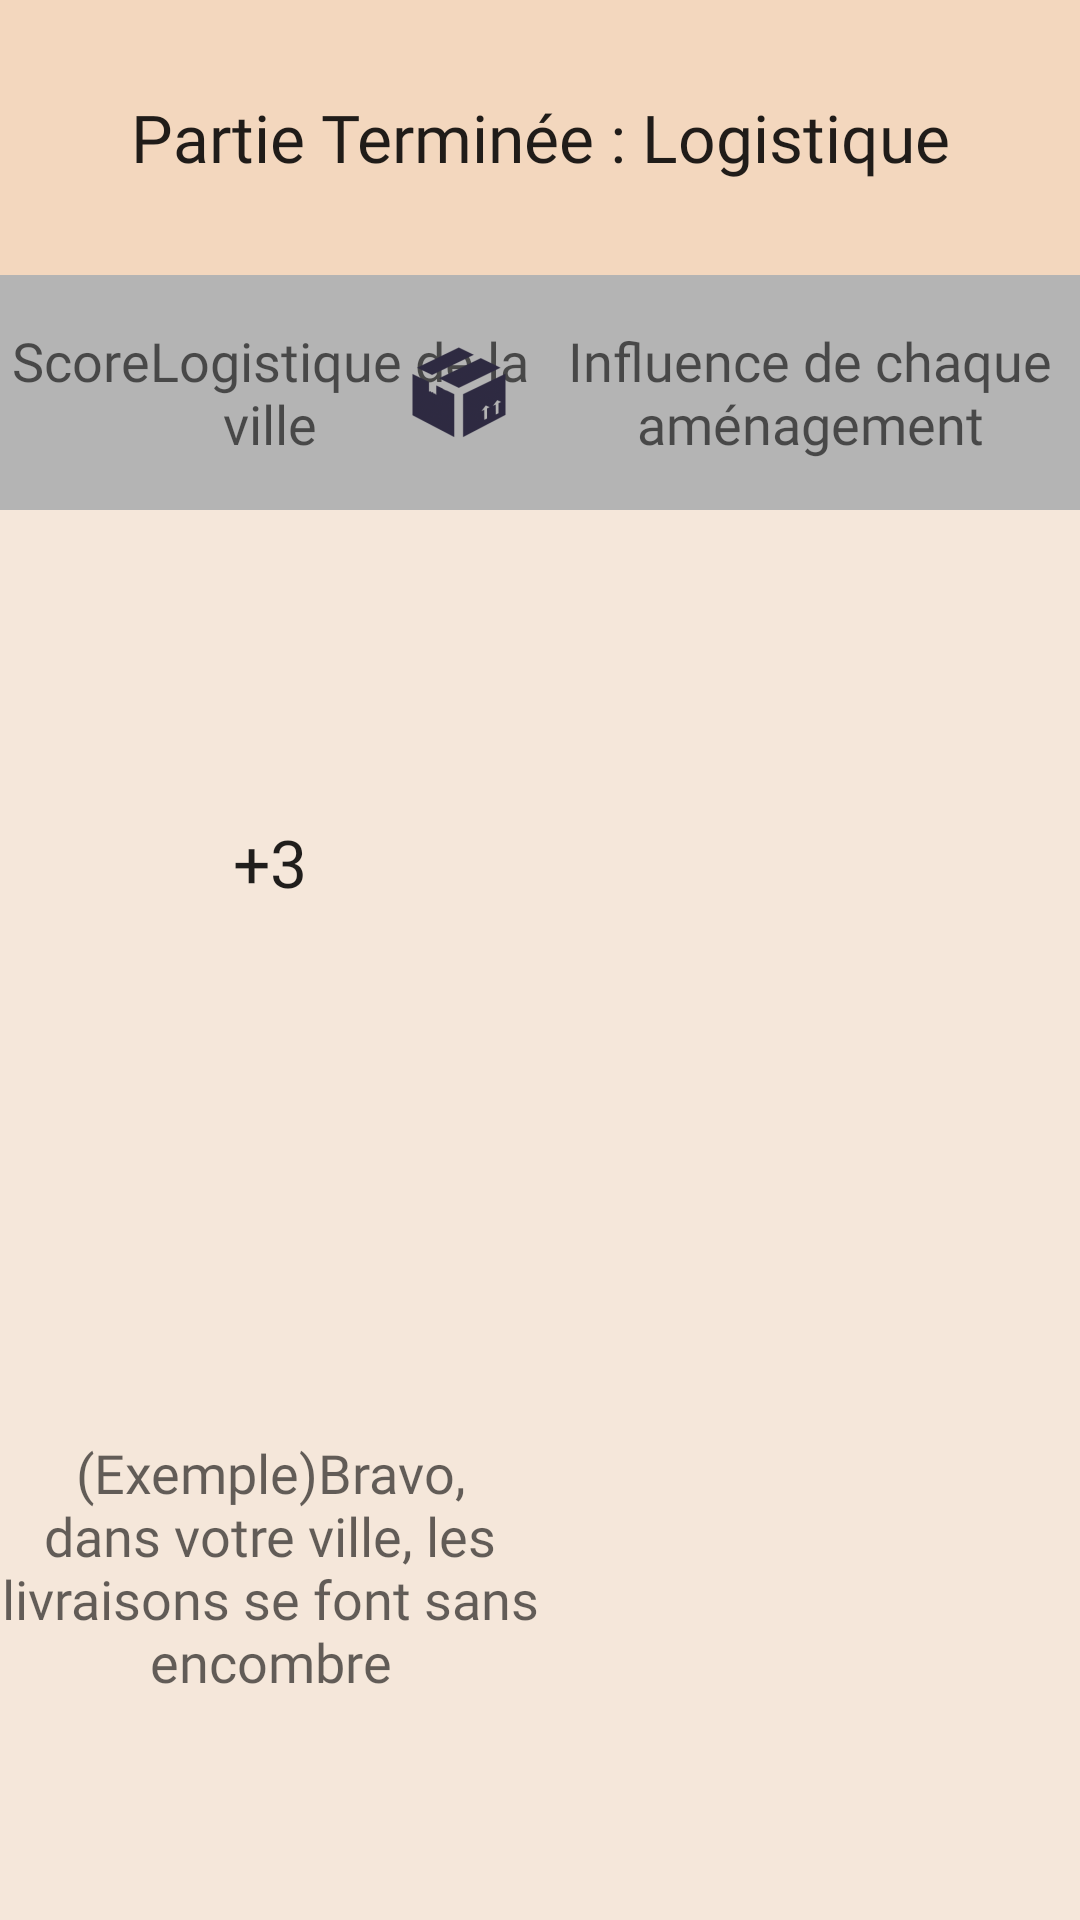

Icons on this 1080*1920 Android screen, each with the point to tap as point (x, y):
logistic: point (452, 389)
